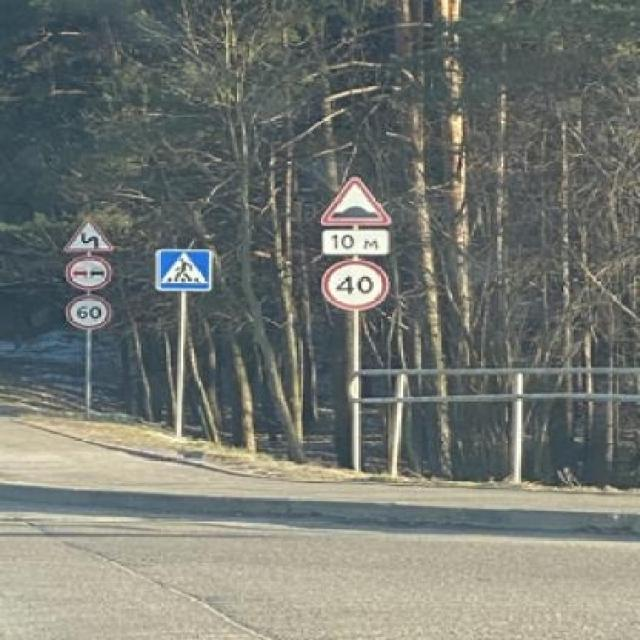forb_speed_over_40: (324, 260, 388, 312)
forb_speed_over_60: (68, 295, 110, 329)
